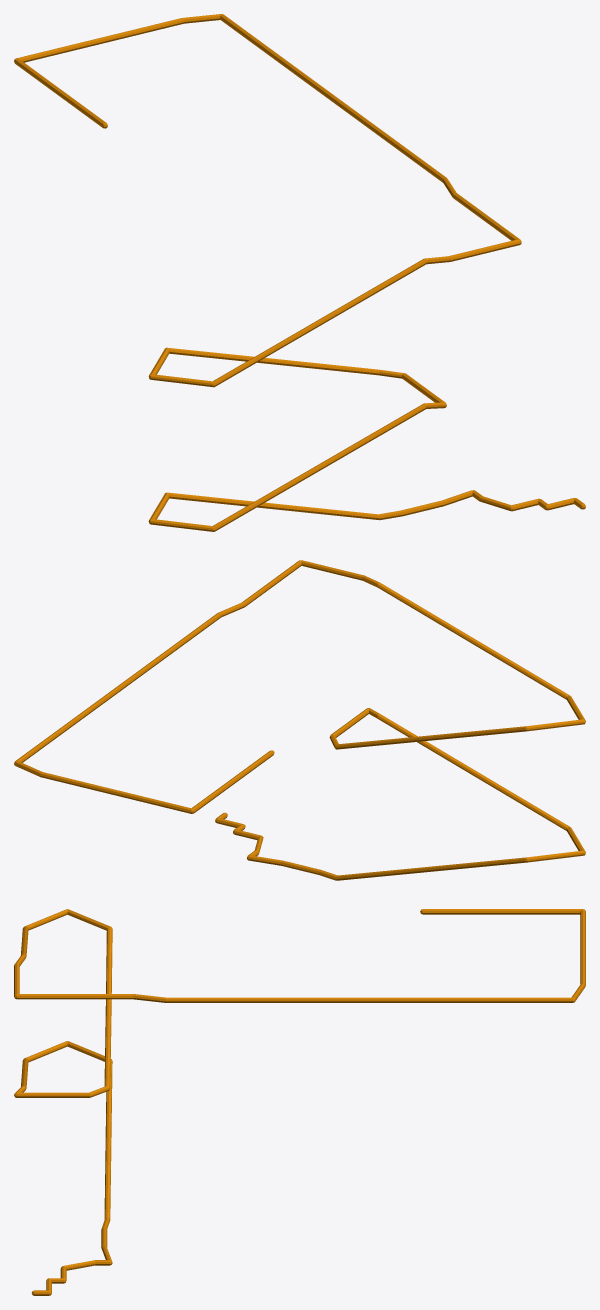
The picture shows the model from 3 angles, top to bottom: view 1: azimuth 30°, elevation 25°; view 2: azimuth 150°, elevation 25°; view 3: azimuth 270°, elevation 25°; orthographic projection. The views are drawn at different scales.
Bounding box in the file's own units: 1513 × 1020 × 1966.
